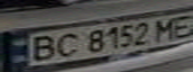1: (103, 25, 124, 51)
2: (130, 19, 157, 46)
5: (118, 21, 139, 48)
8: (84, 26, 106, 54)
B: (21, 33, 60, 63)
C: (48, 30, 84, 59)
E: (166, 12, 193, 39)
M: (148, 16, 184, 43)
